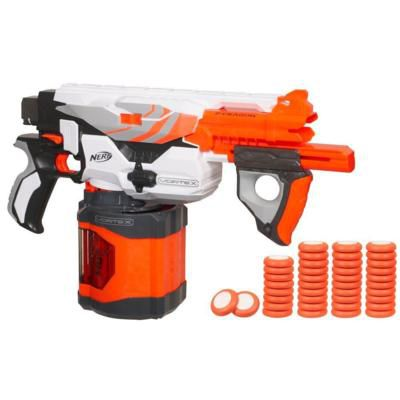Arma Falsa: (6, 81, 357, 325)
